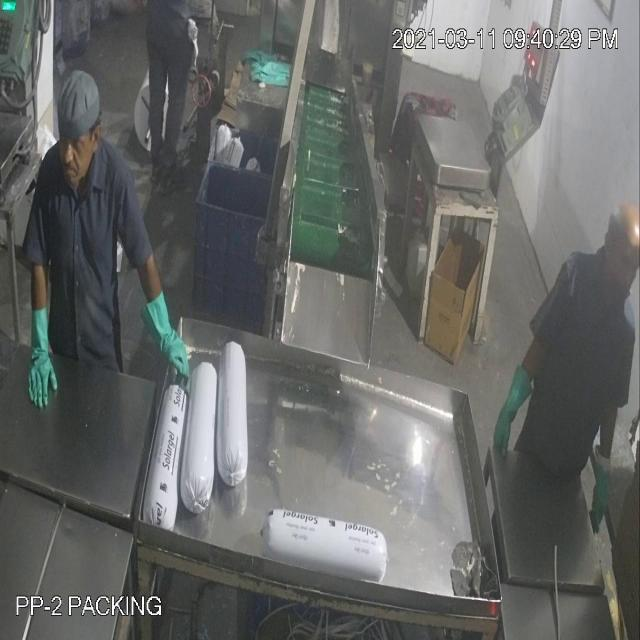Gloves: (31, 97, 597, 490)
